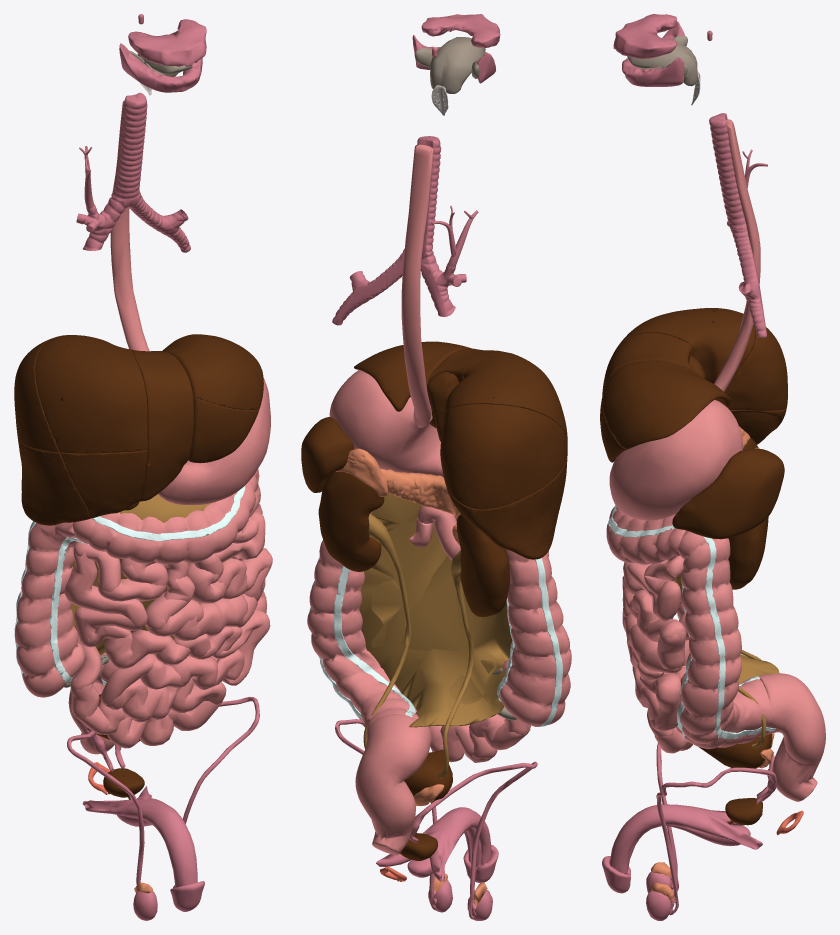
File: 6_Visceral_systems (1).glb
3 views of the same model, side by side, from view 1: azimuth 30°, elevation 25°; view 2: azimuth 150°, elevation 25°; view 3: azimuth 270°, elevation 25° (orthographic).
Visible parts, largest first — view 1: Small intestine, Posterior medial segment of liver (VIII), Ascending colon, Transverse colon, Left medial segment of liver, Left posterior lateral segment of liver (II), Stomach.001, Anterior medial segment of liver (V), Anterior lateral segment of liver (VI), Corpus cavernosum of penis.001, Left anterior lateral segment of liver (III), Oesophagus.001 (+16 smaller); view 2: Mesocolon, Posterior lateral segment of liver (VII), Ascending colon, Descending colon, Sigmoid colon.001, Stomach.001, Oesophagus.001, Posterior medial segment of liver (VIII), Kidney.l, Anterior lateral segment of liver (VI), Kidney.r, Small intestine (+25 smaller); view 3: Descending colon, Small intestine, Stomach.001, Left posterior lateral segment of liver (II), Spleen.001, Sigmoid colon.001, Posterior medial segment of liver (VIII), Posterior lateral segment of liver (VII), Corpus cavernosum of penis.001, Transverse colon, Oesophagus.001, Left medial segment of liver (+18 smaller).
Part boxes in pixels (x1,y1,x2,y2): Small intestine: (64,493,272,748); Posterior medial segment of liver (VIII): (35,335,147,453); Ascending colon: (15,522,84,697); Transverse colon: (72,470,257,564); Left medial segment of liver: (132,349,193,501); Left posterior lateral segment of liver (II): (162,334,263,409); Stomach.001: (158,378,270,504); Anterior medial segment of liver (V): (60,450,147,518); Anterior lateral segment of liver (VI): (17,437,91,525); Corpus cavernosum of penis.001: (82,786,197,887); Left anterior lateral segment of liver (III): (188,396,259,463); Oesophagus.001: (110,101,149,351); Mesocolon: (359,493,512,727); Posterior lateral segment of liver (VII): (440,404,567,509); Ascending colon: (500,549,571,726); Descending colon: (307,511,431,744); Sigmoid colon.001: (355,714,430,854); Stomach.001: (329,370,443,477); Oesophagus.001: (401,144,433,427); Posterior medial segment of liver (VIII): (445,352,567,440); Kidney.l: (318,471,384,571); Anterior lateral segment of liver (VI): (446,454,567,559); Kidney.r: (456,514,509,617); Small intestine: (409,519,530,762); Descending colon: (675,531,771,749); Small intestine: (622,556,692,753); Stomach.001: (609,400,742,520); Left posterior lateral segment of liver (II): (603,361,730,449); Spleen.001: (672,448,784,539); Sigmoid colon.001: (757,673,825,801); Posterior medial segment of liver (VIII): (614,308,755,383); Posterior lateral segment of liver (VII): (724,313,787,410); Corpus cavernosum of penis.001: (609,804,762,873); Transverse colon: (606,507,687,564); Oesophagus.001: (714,119,760,391); Left medial segment of liver: (602,332,695,395).
Size of the model in its own units: 0.2443 by 0.8238 by 0.1911.
